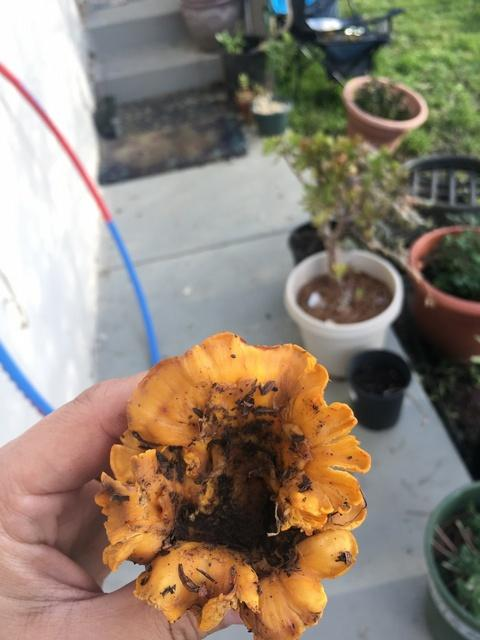Edible Mushroom: (94, 330, 371, 638)
